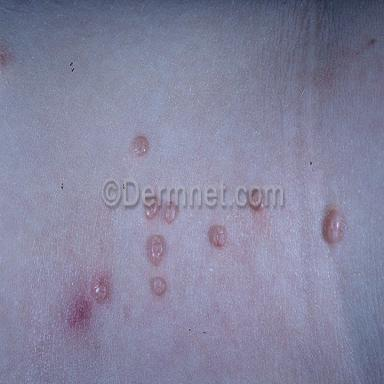Molluscum-Contagiosum: (321, 209, 344, 244), (148, 235, 166, 263), (209, 224, 226, 246), (163, 201, 179, 223), (133, 135, 149, 155), (152, 278, 166, 297)
